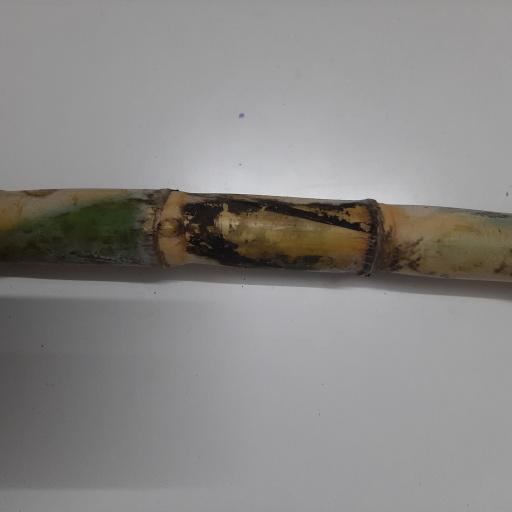Bud: (156, 215, 185, 240)
